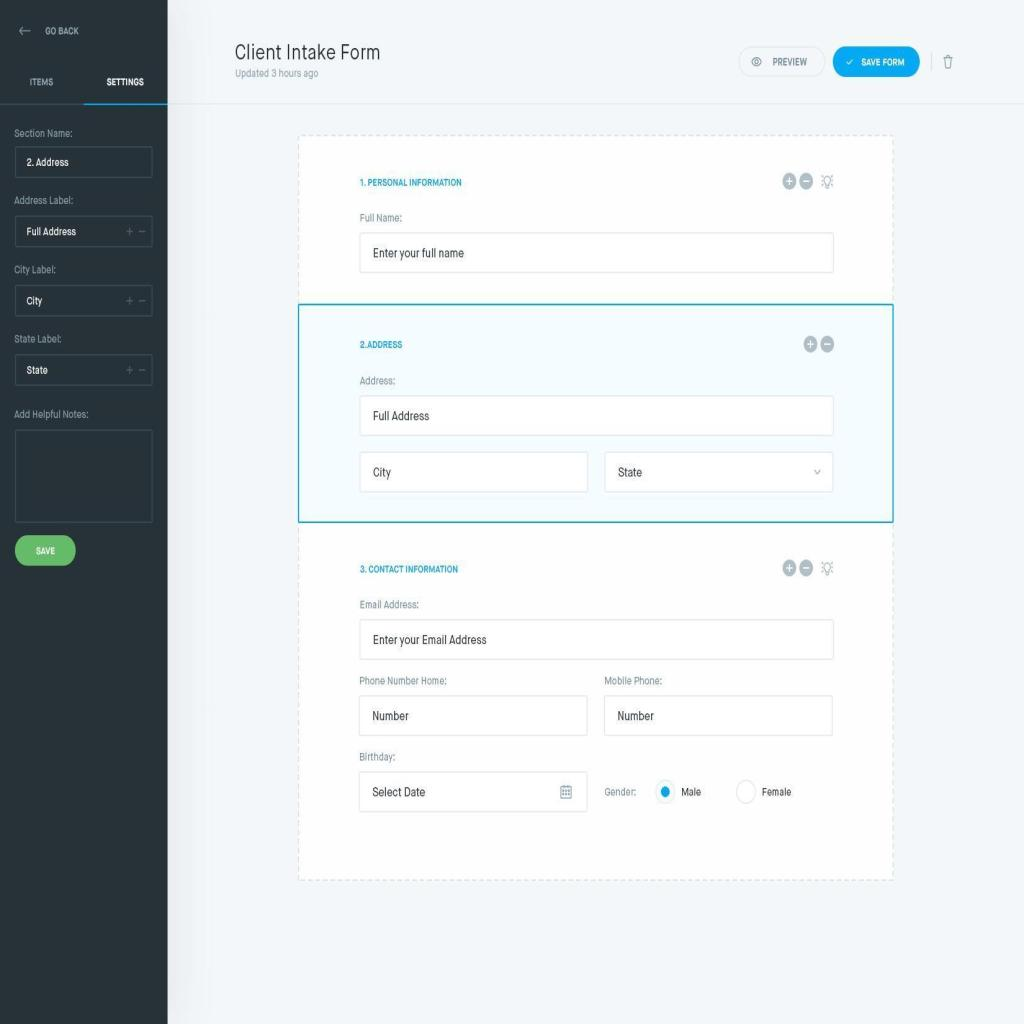button: (833, 45, 921, 78), (736, 45, 824, 76), (16, 536, 76, 566)
dropdown: (605, 452, 834, 492)
icon: (798, 171, 814, 191), (819, 559, 836, 577), (782, 173, 798, 190), (820, 336, 835, 353), (820, 174, 835, 190), (799, 559, 813, 576), (804, 336, 818, 353), (783, 560, 796, 577), (944, 53, 954, 71)
input: (360, 395, 833, 436), (360, 620, 834, 659), (360, 234, 834, 272), (360, 453, 588, 493), (359, 772, 587, 812), (604, 697, 833, 736), (359, 696, 587, 735), (15, 354, 153, 386), (16, 286, 152, 317), (15, 147, 153, 177), (16, 216, 152, 246)
label: (358, 171, 464, 190), (357, 671, 452, 686), (13, 406, 93, 423), (356, 596, 421, 614), (12, 191, 73, 208), (10, 126, 76, 140), (13, 330, 63, 348), (602, 672, 664, 686), (13, 262, 61, 277), (602, 782, 640, 800), (358, 749, 400, 765), (359, 212, 404, 224), (357, 374, 398, 387), (760, 785, 793, 798), (680, 785, 702, 797)
radio: (735, 779, 756, 805), (655, 780, 675, 804)
